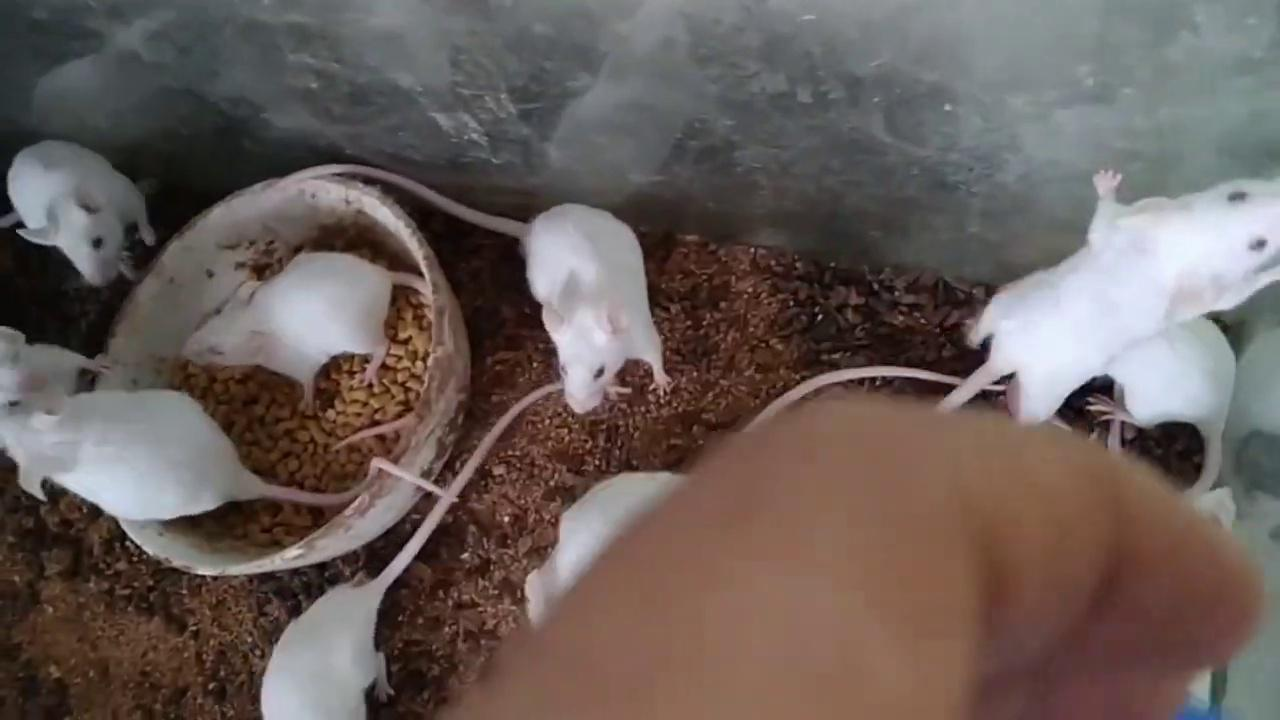rat: (259, 381, 631, 720), (272, 161, 673, 414), (937, 170, 1280, 423), (2, 389, 459, 521), (184, 251, 430, 414), (0, 141, 156, 284)
